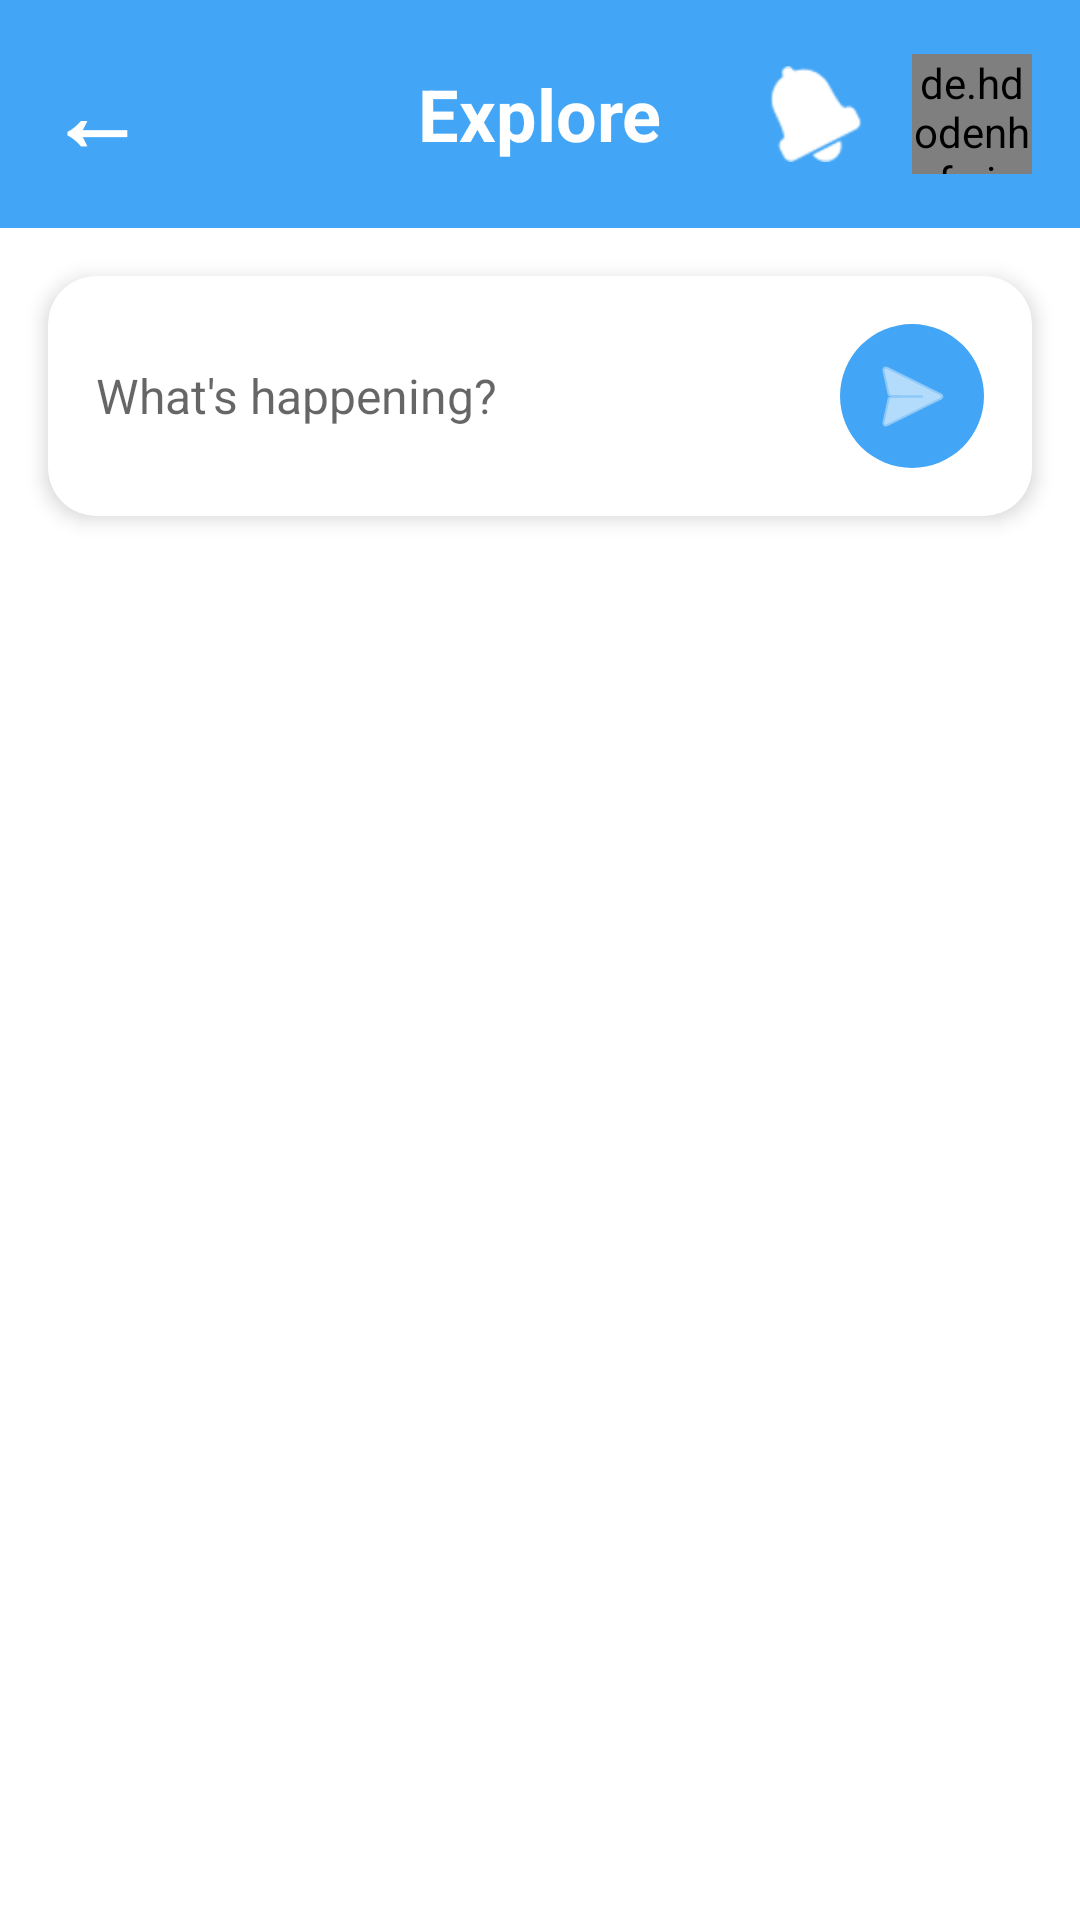

Icon click points for this 1080*1920 phone screenshot, format [x,y]:
Notifications: [816,114]
Send Post: [912,396]
